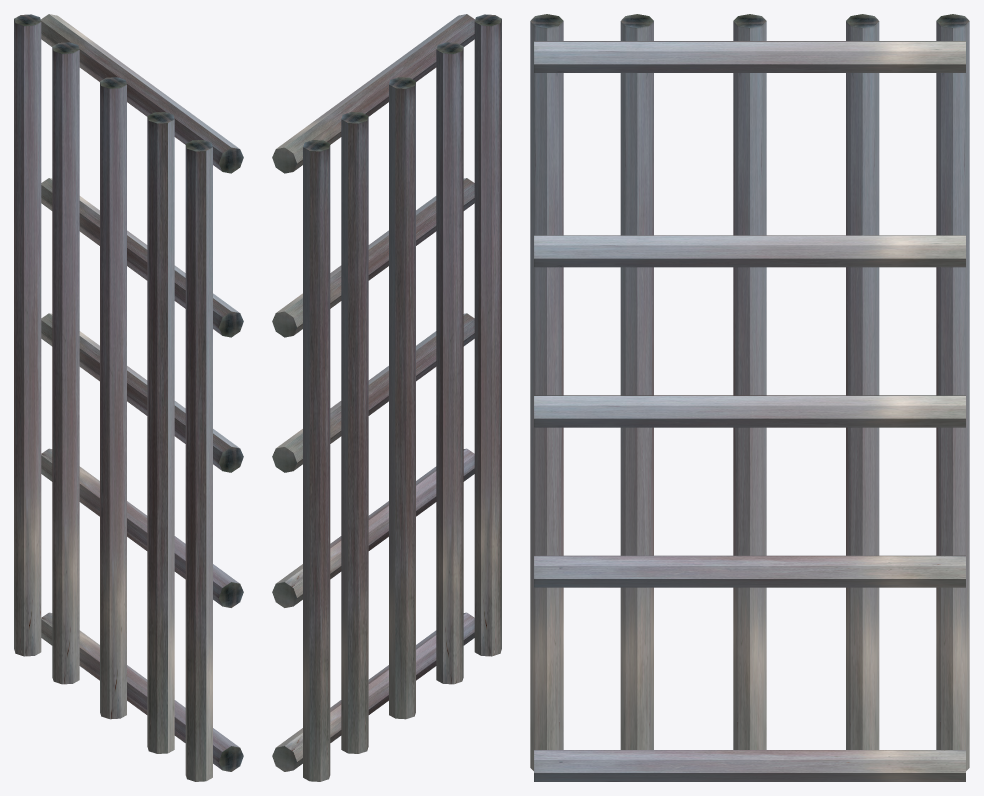
Rendered from rejas.fbx.
3 renders of one model, left to right at view 1: azimuth 30°, elevation 25°; view 2: azimuth 150°, elevation 25°; view 3: azimuth 270°, elevation 25°, orthographic. The views are drawn at different scales.
Visible parts, largest first — view 1: Cylinder.002, Cylinder.001, Cylinder, Cylinder.005, Cylinder.004, Cylinder.003; view 2: Cylinder.002, Cylinder.001, Cylinder, Cylinder.005, Cylinder.004, Cylinder.003; view 3: Cylinder.002, Cylinder.001, Cylinder.004, Cylinder.005, Cylinder, Cylinder.003.
Part boxes in pixels (x1,y1,x2,y2): Cylinder.002: (14, 14, 212, 781); Cylinder.001: (52, 42, 174, 753); Cylinder: (100, 77, 126, 719); Cylinder.005: (41, 14, 243, 771); Cylinder.004: (41, 178, 243, 607); Cylinder.003: (41, 313, 243, 472); Cylinder.002: (303, 14, 501, 781); Cylinder.001: (341, 42, 463, 753); Cylinder: (389, 77, 415, 719); Cylinder.005: (272, 14, 474, 771); Cylinder.004: (272, 178, 474, 607); Cylinder.003: (272, 313, 474, 472); Cylinder.002: (530, 14, 969, 770); Cylinder.001: (620, 14, 879, 749); Cylinder.004: (534, 235, 965, 587); Cylinder.005: (534, 41, 965, 781); Cylinder: (733, 14, 766, 749); Cylinder.003: (534, 395, 965, 427).
Bounding box in the file's own units: 110 × 1291 × 689.
